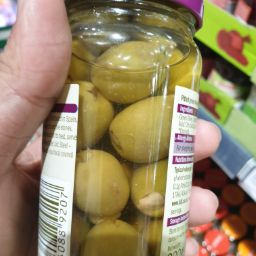Olives: (88, 9, 166, 230), (92, 29, 169, 104), (115, 138, 165, 233), (79, 139, 130, 230), (113, 91, 171, 169), (79, 201, 150, 255), (81, 76, 112, 150)
